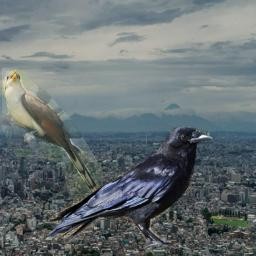Crow: (44, 122, 216, 255)
Cuckoo: (2, 68, 103, 198)
